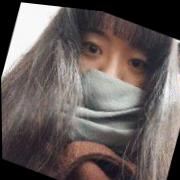WRONG: (47, 5, 170, 144)
